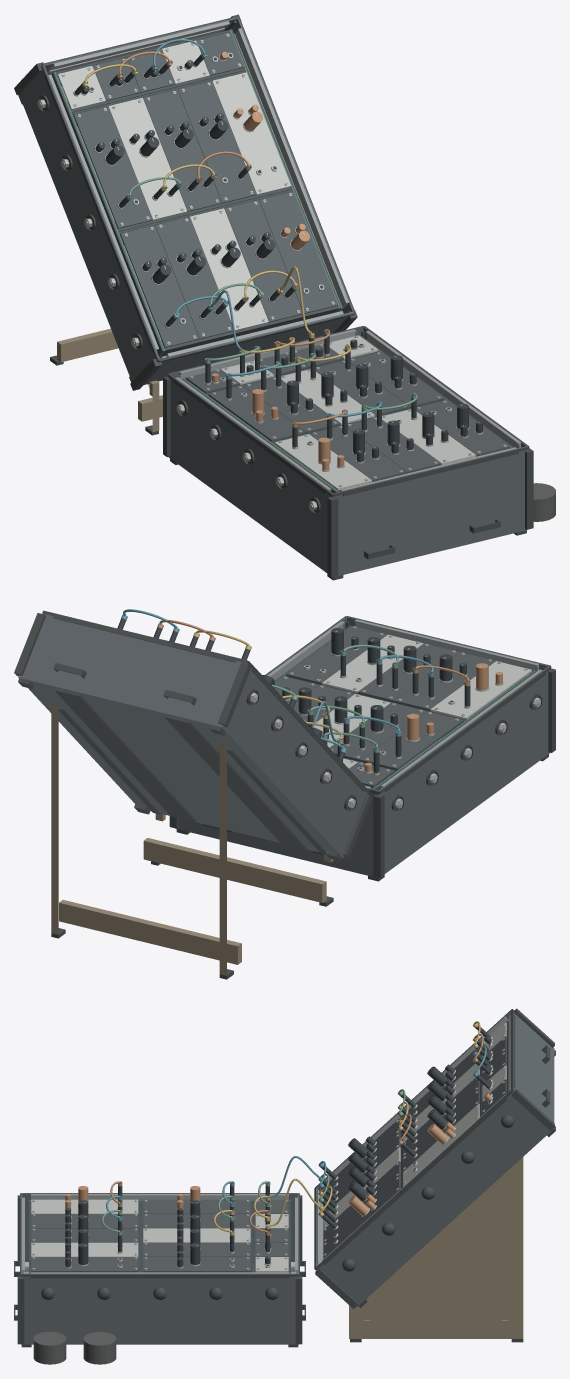
Rendered from C-play-TW-01.glb.
3 renders of one model, top to bottom at view 1: azimuth 30°, elevation 25°; view 2: azimuth 150°, elevation 25°; view 3: azimuth 270°, elevation 25°, orthographic. The views are drawn at different scales.
Parts seen in each view (by area): view 1: lid, base, world; view 2: lid, base, world; view 3: base, lid, world.
Part boxes in pixels (x1,y1,x2,y2): lid: [14, 14, 357, 390]; base: [163, 326, 533, 580]; world: [50, 266, 555, 521]; lid: [14, 609, 372, 860]; base: [169, 616, 555, 881]; world: [51, 701, 341, 979]; base: [14, 1181, 305, 1347]; lid: [314, 1008, 555, 1308]; world: [33, 1156, 523, 1364].
Size of the model in its own units: 0.2874 by 0.3501 by 0.6505.
